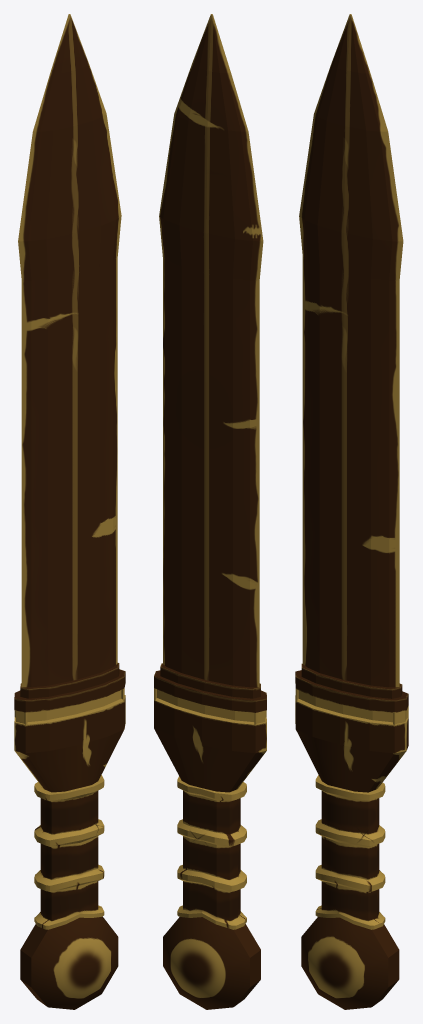
The model's file is Gladius.FBX.
3 views of the same model, side by side, from view 1: azimuth 30°, elevation 25°; view 2: azimuth 150°, elevation 25°; view 3: azimuth 330°, elevation 25° (orthographic).
Visible parts, largest first — view 1: gladius; view 2: gladius; view 3: gladius.
Boxes of the visible parts, x1,y1,x2,y2 form: gladius: (14,14,125,1009); gladius: (154,14,266,1009); gladius: (295,14,408,1009).
Size of the model in its own units: 30.51 by 260 by 16.99.
Materials: 1 (1 with a texture image).
